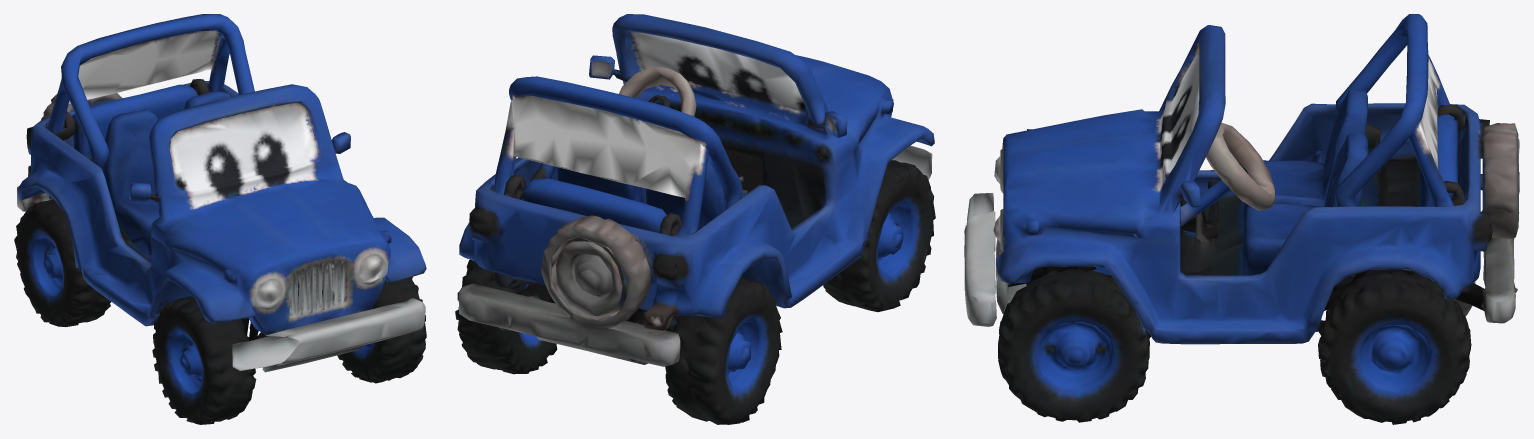
Rendered from jeep_blue.glb.
The picture shows the model from 3 angles, left to right: view 1: azimuth 30°, elevation 25°; view 2: azimuth 150°, elevation 25°; view 3: azimuth 270°, elevation 25°; orthographic projection. The views are drawn at different scales.
Visible parts, largest first — view 1: Body, Wheel_RR, Wheel_FR; view 2: Body, Wheel_FR, Wheel_RR; view 3: Body, Wheel_RL, Wheel_FL.
Part boxes in pixels (x1,y1,x2,y2): Body: (14, 14, 426, 422); Wheel_RR: (17, 206, 110, 327); Wheel_FR: (145, 284, 236, 424); Body: (455, 14, 935, 422); Wheel_FR: (824, 172, 931, 312); Wheel_RR: (686, 278, 782, 424); Body: (964, 14, 1519, 412); Wheel_RL: (1318, 271, 1459, 424); Wheel_FL: (1015, 270, 1170, 422).
Bounding box in the file's own units: 2.24 × 2.48 × 4.
1 material, 1 textured.
